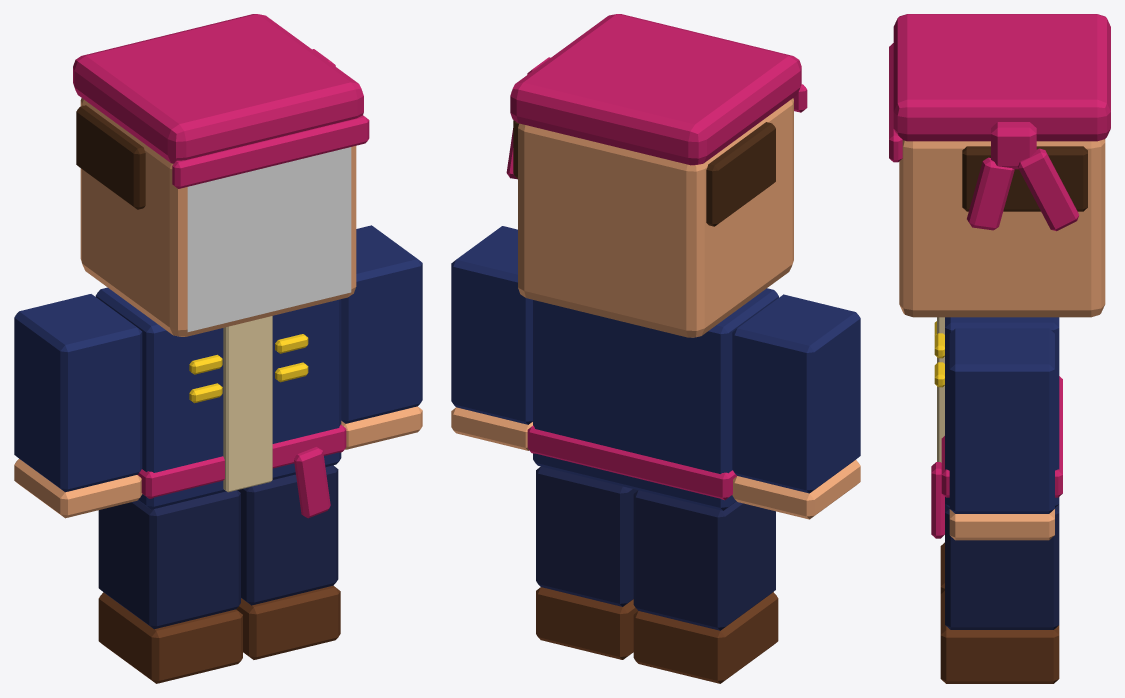
3 renders of one model, left to right at view 1: azimuth 30°, elevation 25°; view 2: azimuth 150°, elevation 25°; view 3: azimuth 270°, elevation 25°, orthographic.
Parts seen in each view (by area): view 1: Cube.019, Plane, Cube.005, Cube.004, Cube, Cube.009, Cube.007, Cube.002, Cube.010, Cube.001, Cube.020, Cube.003 (+5 smaller); view 2: Cube.009, Cube.004, Cube.019, Cube.005, Cube, Cube.007, Cube.002, Cube.001, Cube.003, Cube.015, Cube.017, Cube.006 (+1 smaller); view 3: Cube.009, Cube.019, Cube.007, Cube.002, Cube.003, Cube.018, Cube.004, Cube.008, Cube.022, Cube.023, Cube.021, Cube.015 (+3 smaller).
Boxes of the visible parts, <box> form: Cube.019: <box>73,14,363,163</box>; Plane: <box>187,147,351,331</box>; Cube.005: <box>14,294,142,492</box>; Cube.004: <box>95,287,341,509</box>; Cube: <box>98,490,240,629</box>; Cube.009: <box>80,98,356,336</box>; Cube.007: <box>341,225,422,423</box>; Cube.002: <box>237,465,338,605</box>; Cube.010: <box>223,316,272,492</box>; Cube.001: <box>98,592,242,683</box>; Cube.020: <box>172,115,369,188</box>; Cube.003: <box>236,585,340,659</box>; Cube.009: <box>518,98,793,337</box>; Cube.004: <box>533,288,778,510</box>; Cube.019: <box>510,14,801,165</box>; Cube.005: <box>732,294,860,493</box>; Cube: <box>633,490,775,630</box>; Cube.007: <box>451,226,532,424</box>; Cube.002: <box>536,466,637,606</box>; Cube.001: <box>633,592,778,683</box>; Cube.003: <box>536,587,637,659</box>; Cube.015: <box>527,425,736,500</box>; Cube.017: <box>706,122,775,226</box>; Cube.006: <box>732,460,860,519</box>; Cube.009: <box>899,139,1105,317</box>; Cube.019: <box>893,14,1110,141</box>; Cube.007: <box>949,328,1054,513</box>; Cube.002: <box>945,504,1059,629</box>; Cube.003: <box>940,591,1059,683</box>; Cube.018: <box>962,146,1087,211</box>; Cube.004: <box>945,317,1059,507</box>; Cube.008: <box>949,509,1054,540</box>; Cube.022: <box>1017,148,1079,231</box>; Cube.023: <box>967,157,1014,230</box>; Cube.021: <box>991,122,1036,169</box>; Cube.015: <box>941,376,1062,497</box>.
Bounding box in the file's own units: 1.86 × 2.81 × 0.97.
